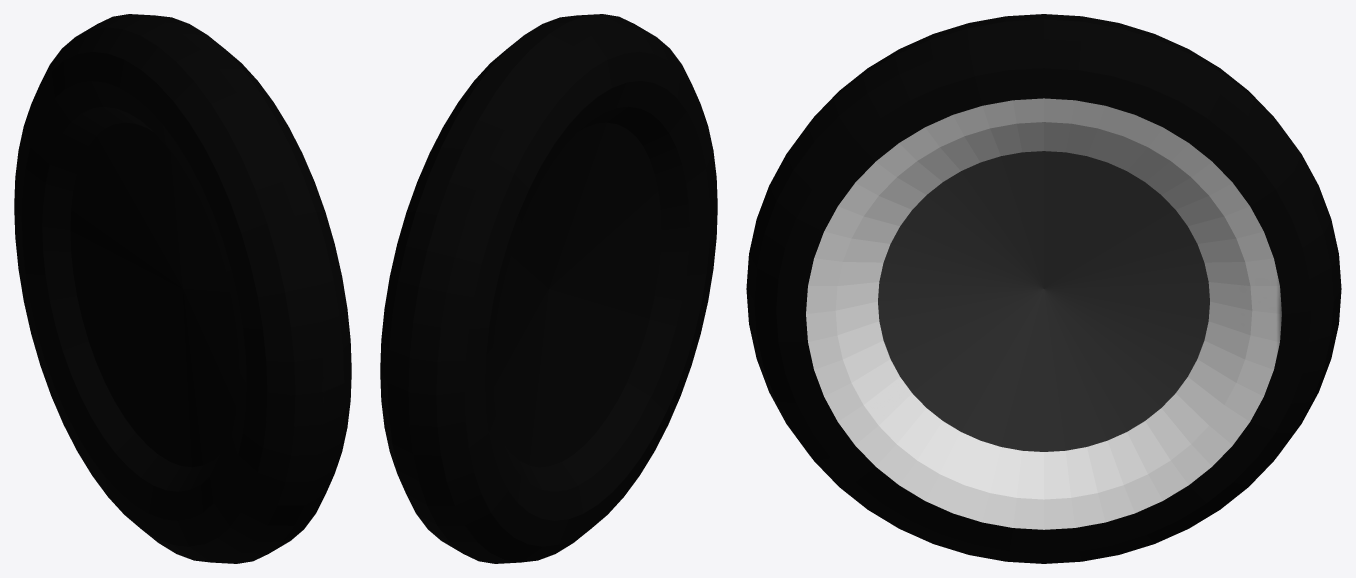
File: wheel.fbx
The picture shows the model from 3 angles, left to right: view 1: azimuth 30°, elevation 25°; view 2: azimuth 150°, elevation 25°; view 3: azimuth 270°, elevation 25°; orthographic projection. The views are drawn at different scales.
Parts seen in each view (by area): view 1: car_wheel; view 2: car_wheel; view 3: car_wheel.
Boxes of the visible parts, x1,y1,x2,y2 form: car_wheel: [14, 14, 351, 563]; car_wheel: [380, 14, 717, 563]; car_wheel: [746, 14, 1341, 563].
Size of the model in its own units: 0.3489 by 1.74 by 1.74.
